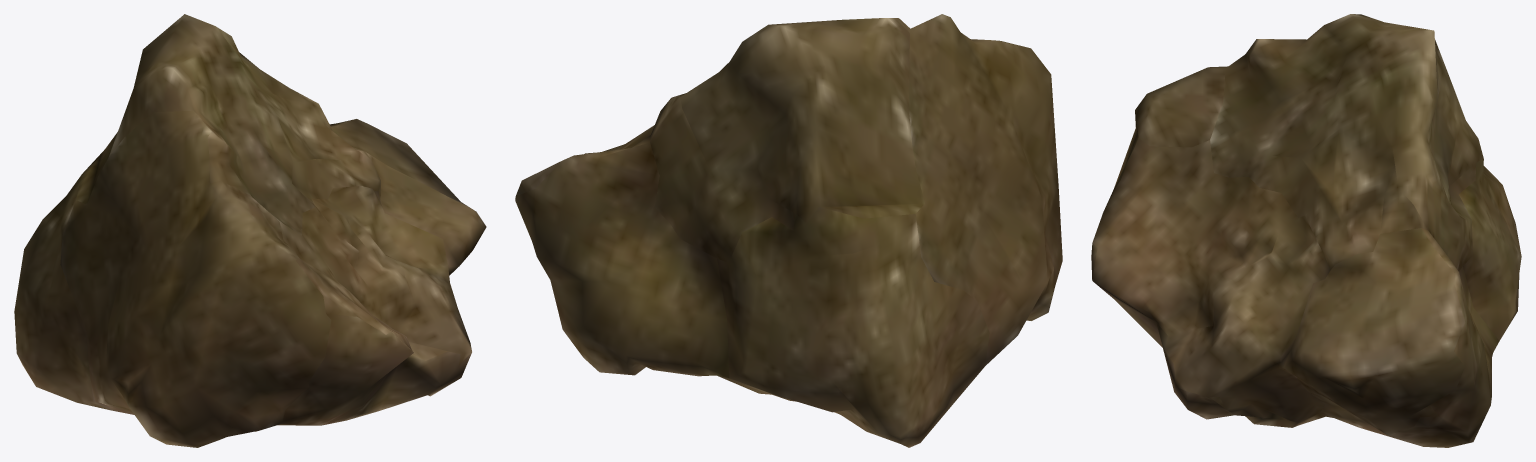
Rendered from moss_rock_3.glb.
The picture shows the model from 3 angles, left to right: view 1: azimuth 30°, elevation 25°; view 2: azimuth 150°, elevation 25°; view 3: azimuth 270°, elevation 25°; orthographic projection. The views are drawn at different scales.
Parts seen in each view (by area): view 1: rock_moss_set_01_rock04; view 2: rock_moss_set_01_rock04; view 3: rock_moss_set_01_rock04.
Part boxes in pixels (x1,y1,x2,y2): rock_moss_set_01_rock04: (14, 14, 486, 447); rock_moss_set_01_rock04: (515, 14, 1062, 447); rock_moss_set_01_rock04: (1091, 14, 1521, 447).
Size of the model in its own units: 2.13 by 1.76 by 1.96.
1 material, 1 textured.
